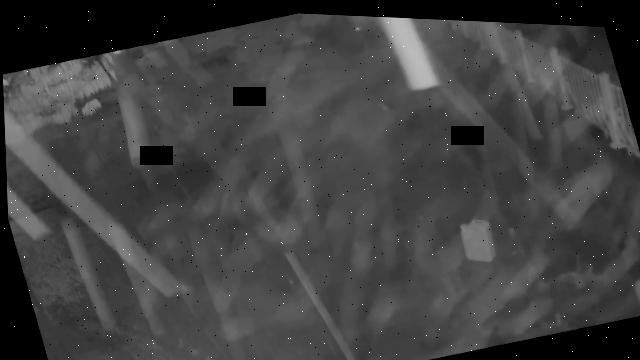bag: (455, 211, 496, 262)
